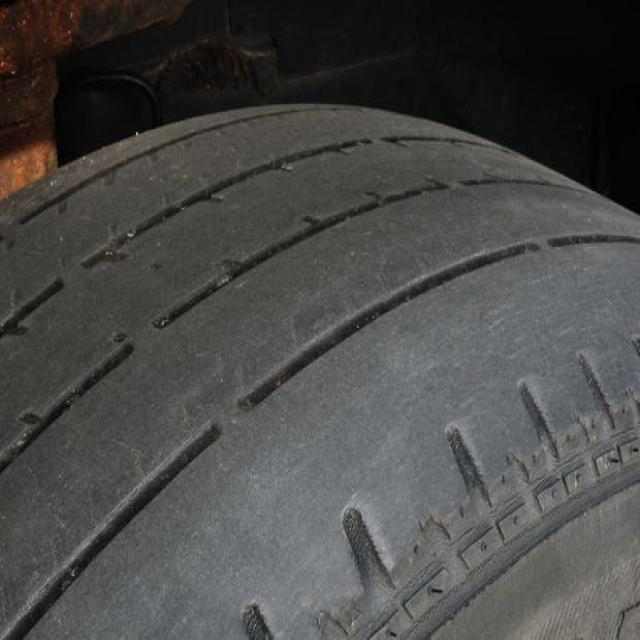Flat spots: (0, 103, 639, 639)
